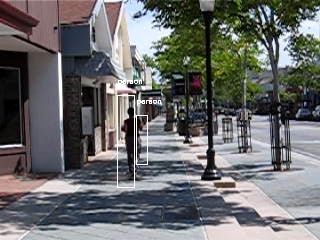person: (122, 108, 145, 179), (121, 108, 144, 179), (123, 108, 146, 179), (122, 107, 145, 178), (122, 109, 145, 180)
target_negative: (55, 91, 273, 187), (105, 127, 216, 220), (6, 96, 77, 172), (199, 46, 224, 149), (45, 141, 122, 154), (73, 189, 114, 211)
